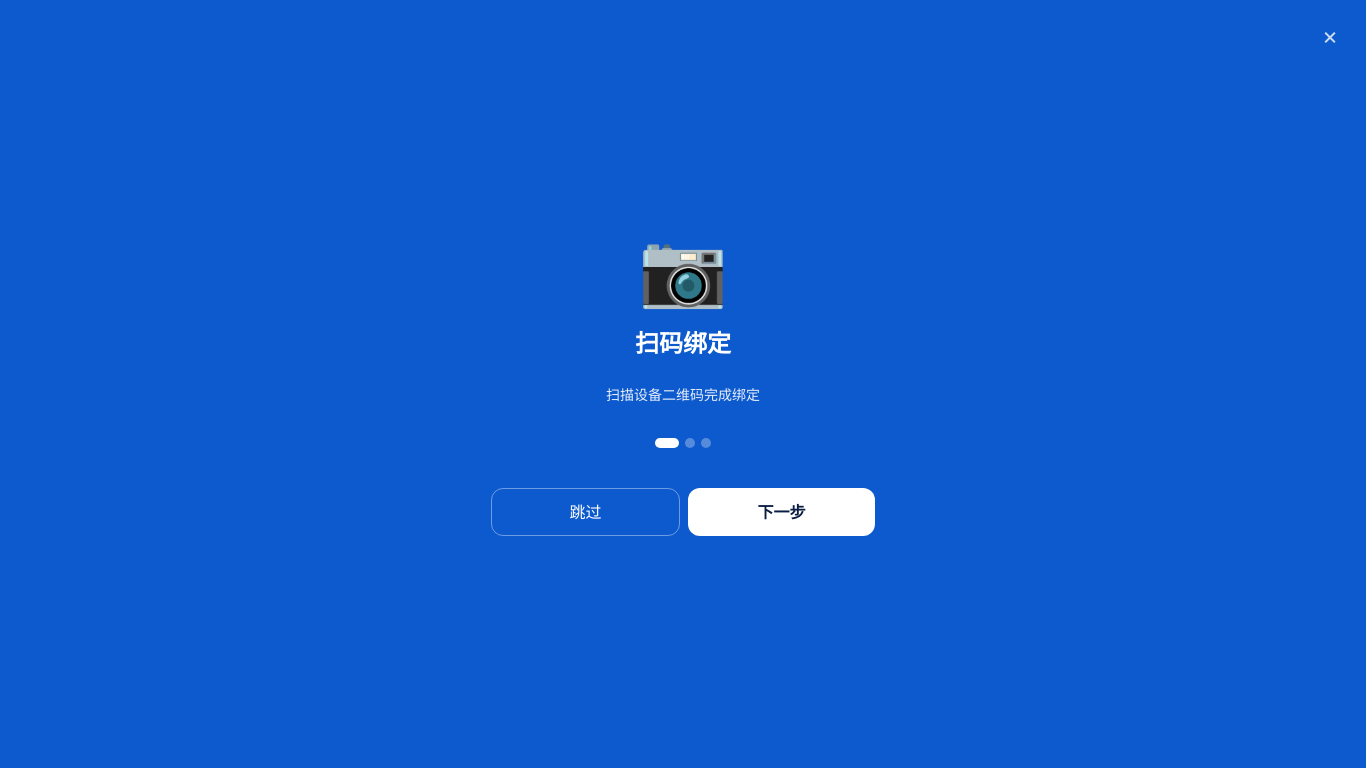
Onboarding › tab 圆点点击跳步
The width and height of the screenshot is (1366, 768).
What coordinates should you click on to do the following:
click the tab named "step 3"
I would click on:
 (706, 443)
Its box is [701,438,711,448].
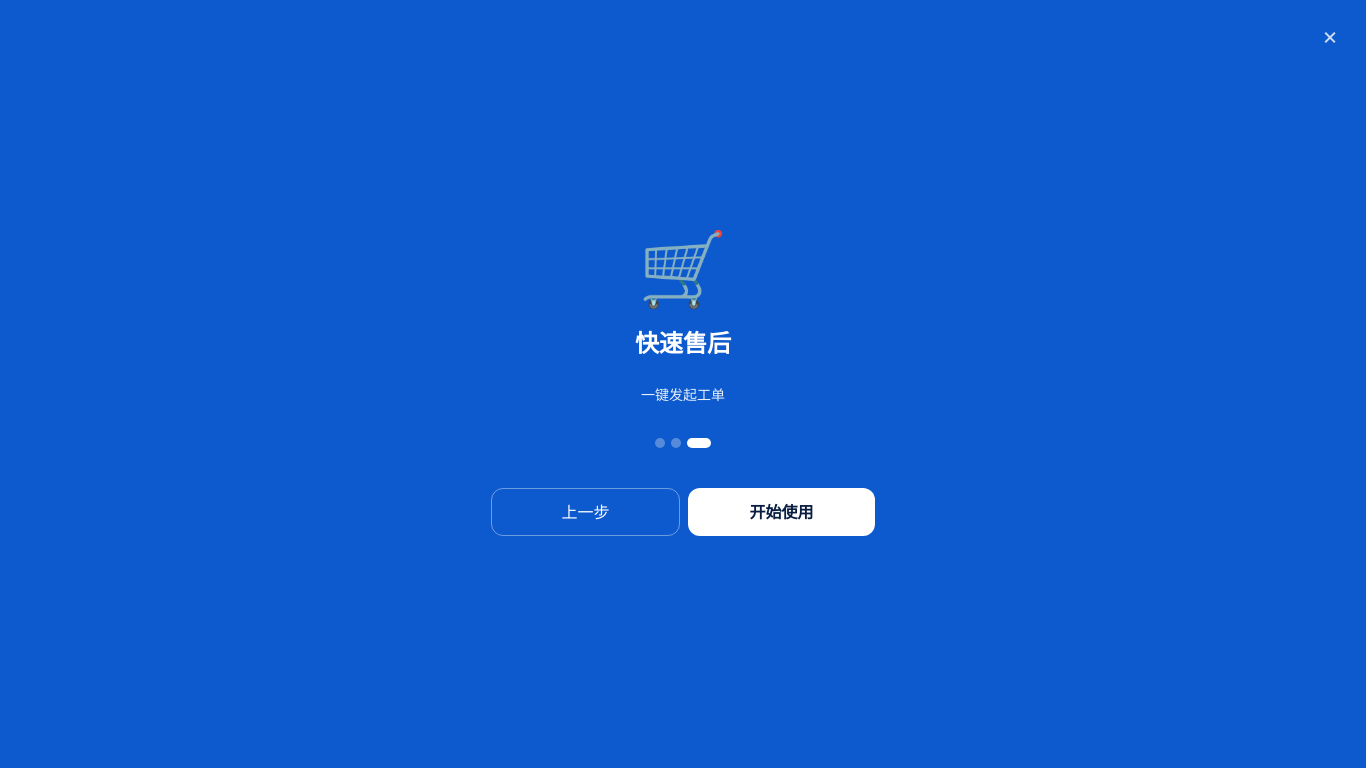
Result: the text "快速售后" is shown at [635,329,731,358]
